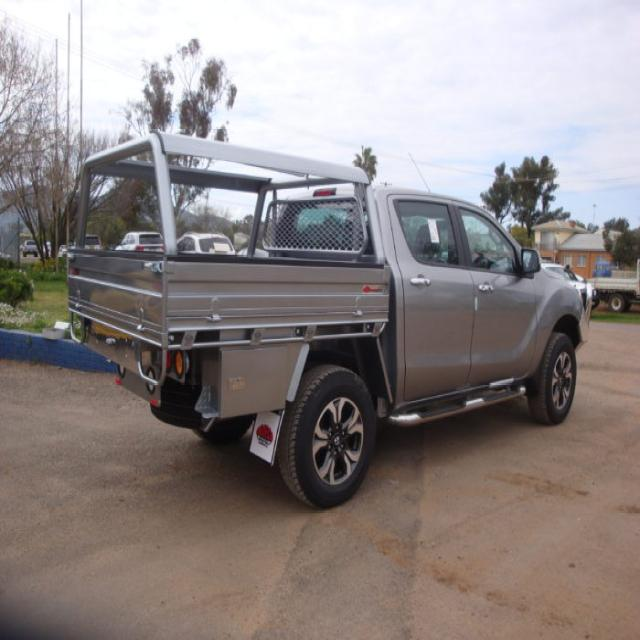light_vehicle: (56, 128, 593, 507)
